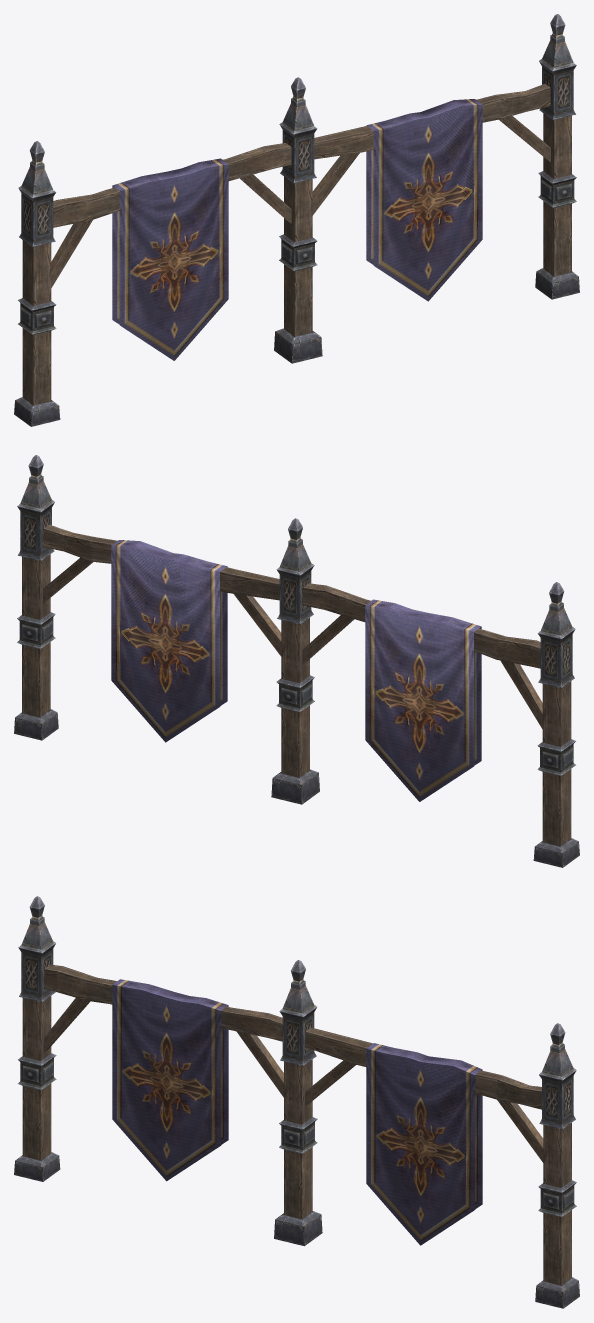
File: bg_lut_lucastle_arenafence02a_sm_bjh.FBX
3 renders of one model, top to bottom at view 1: azimuth 30°, elevation 25°; view 2: azimuth 150°, elevation 25°; view 3: azimuth 330°, elevation 25°, orthographic.
Visible parts, largest first — view 1: bg_lut_lucastle_arenafence02a_sm_bjh; view 2: bg_lut_lucastle_arenafence02a_sm_bjh; view 3: bg_lut_lucastle_arenafence02a_sm_bjh.
Boxes of the visible parts, <box> form: bg_lut_lucastle_arenafence02a_sm_bjh: <box>14,14,579,426</box>; bg_lut_lucastle_arenafence02a_sm_bjh: <box>14,455,579,867</box>; bg_lut_lucastle_arenafence02a_sm_bjh: <box>14,896,579,1308</box>.
Bounding box in the file's own units: 287 × 138 × 16.33.
